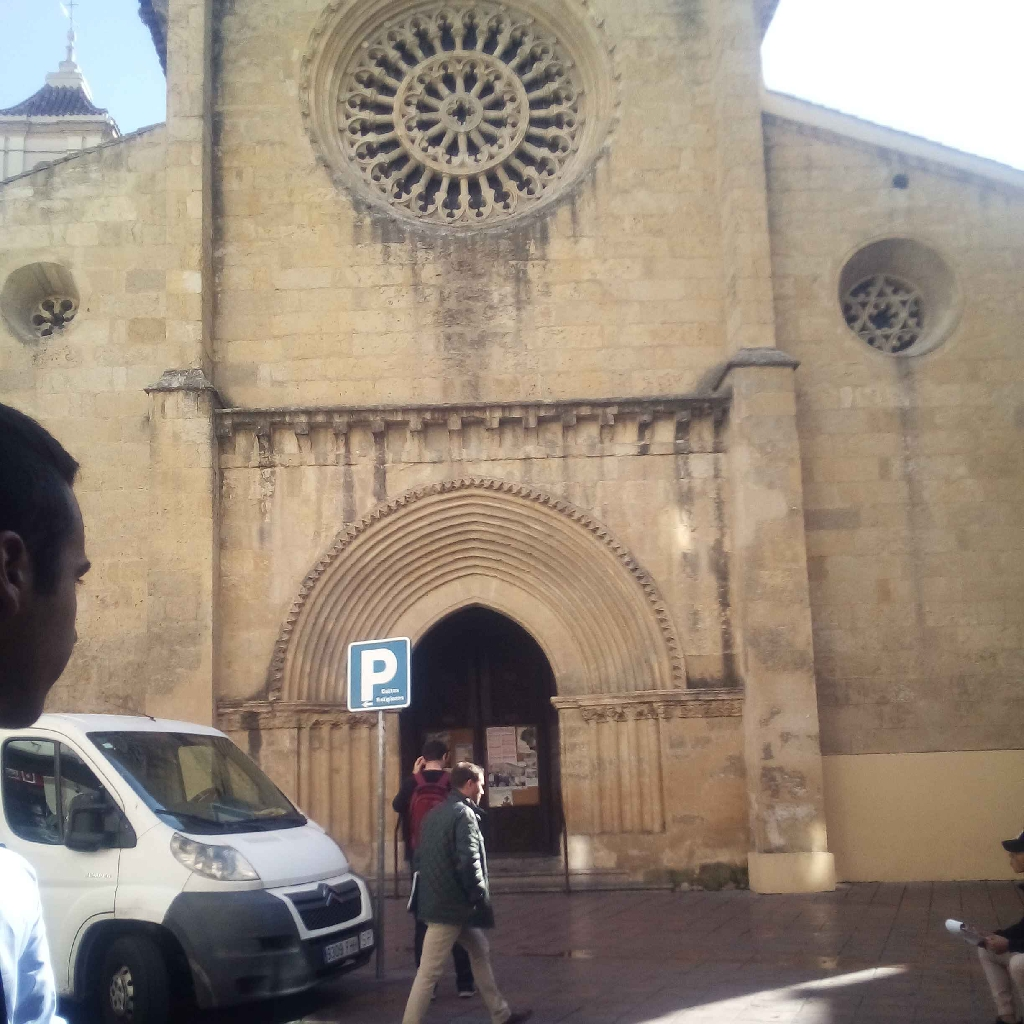arco-apuntado: (389, 594, 554, 712)
